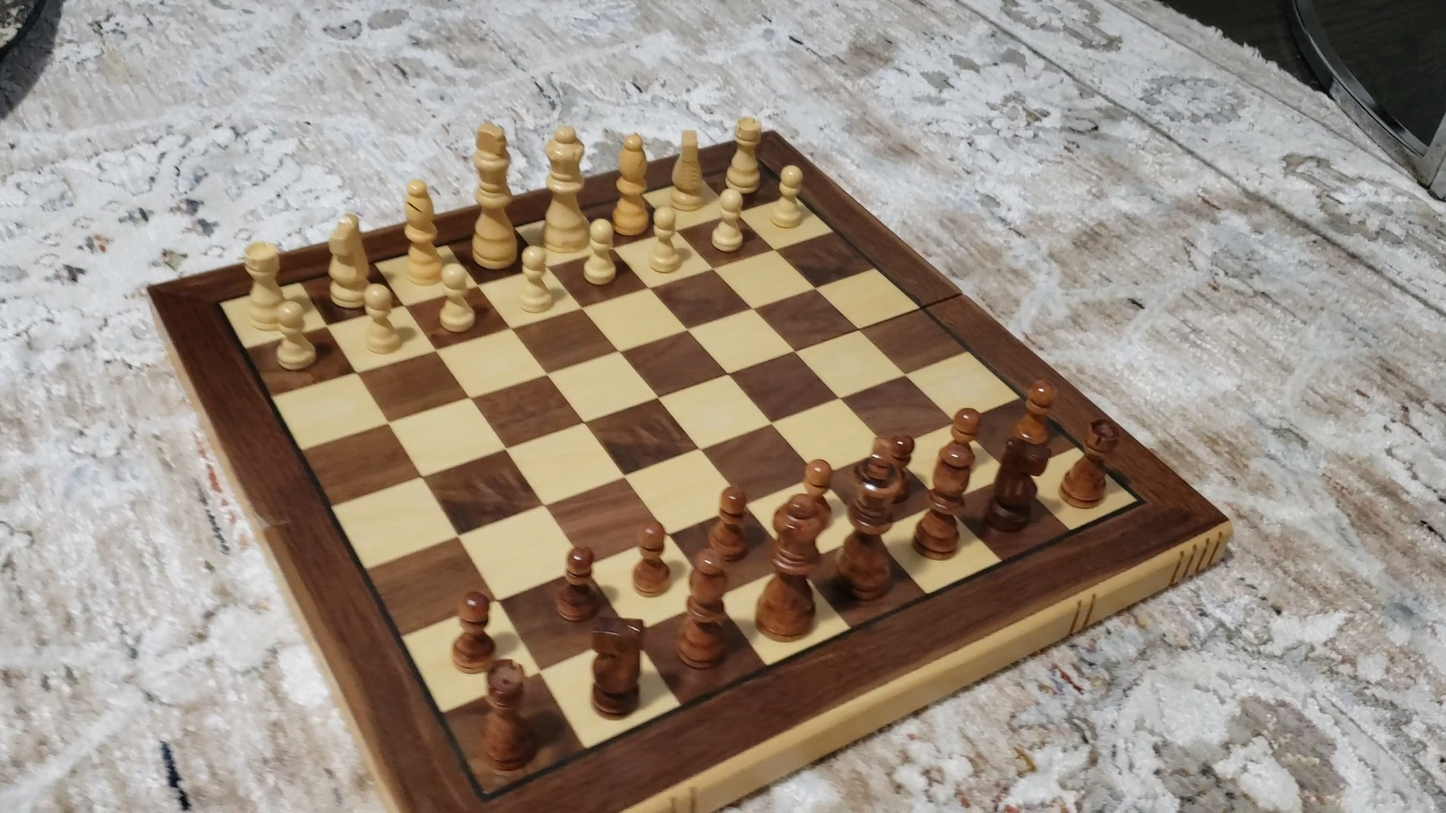black-bishop: (913, 442, 977, 560), (678, 550, 731, 670)
black-king: (829, 433, 916, 602)
black-knight: (982, 431, 1049, 535), (589, 615, 647, 719)
black-pawn: (448, 587, 499, 676), (1009, 375, 1059, 462), (556, 543, 601, 625), (707, 482, 751, 564), (630, 521, 672, 598), (792, 453, 834, 528), (944, 403, 982, 464)
black-queen: (754, 494, 831, 644)
black-rook: (477, 658, 539, 774), (1060, 416, 1121, 508)
white-bishop: (400, 176, 441, 289), (611, 129, 651, 239)
white-king: (469, 117, 516, 273)
white-knight: (325, 210, 371, 312), (671, 125, 709, 214)
white-pawn: (268, 292, 321, 377), (355, 281, 407, 359), (511, 242, 563, 319), (433, 260, 482, 338), (764, 159, 813, 234), (641, 202, 688, 278), (704, 184, 751, 259), (578, 215, 624, 291)
white-queen: (543, 123, 589, 255)
white-rook: (239, 238, 288, 333), (722, 111, 768, 198)
